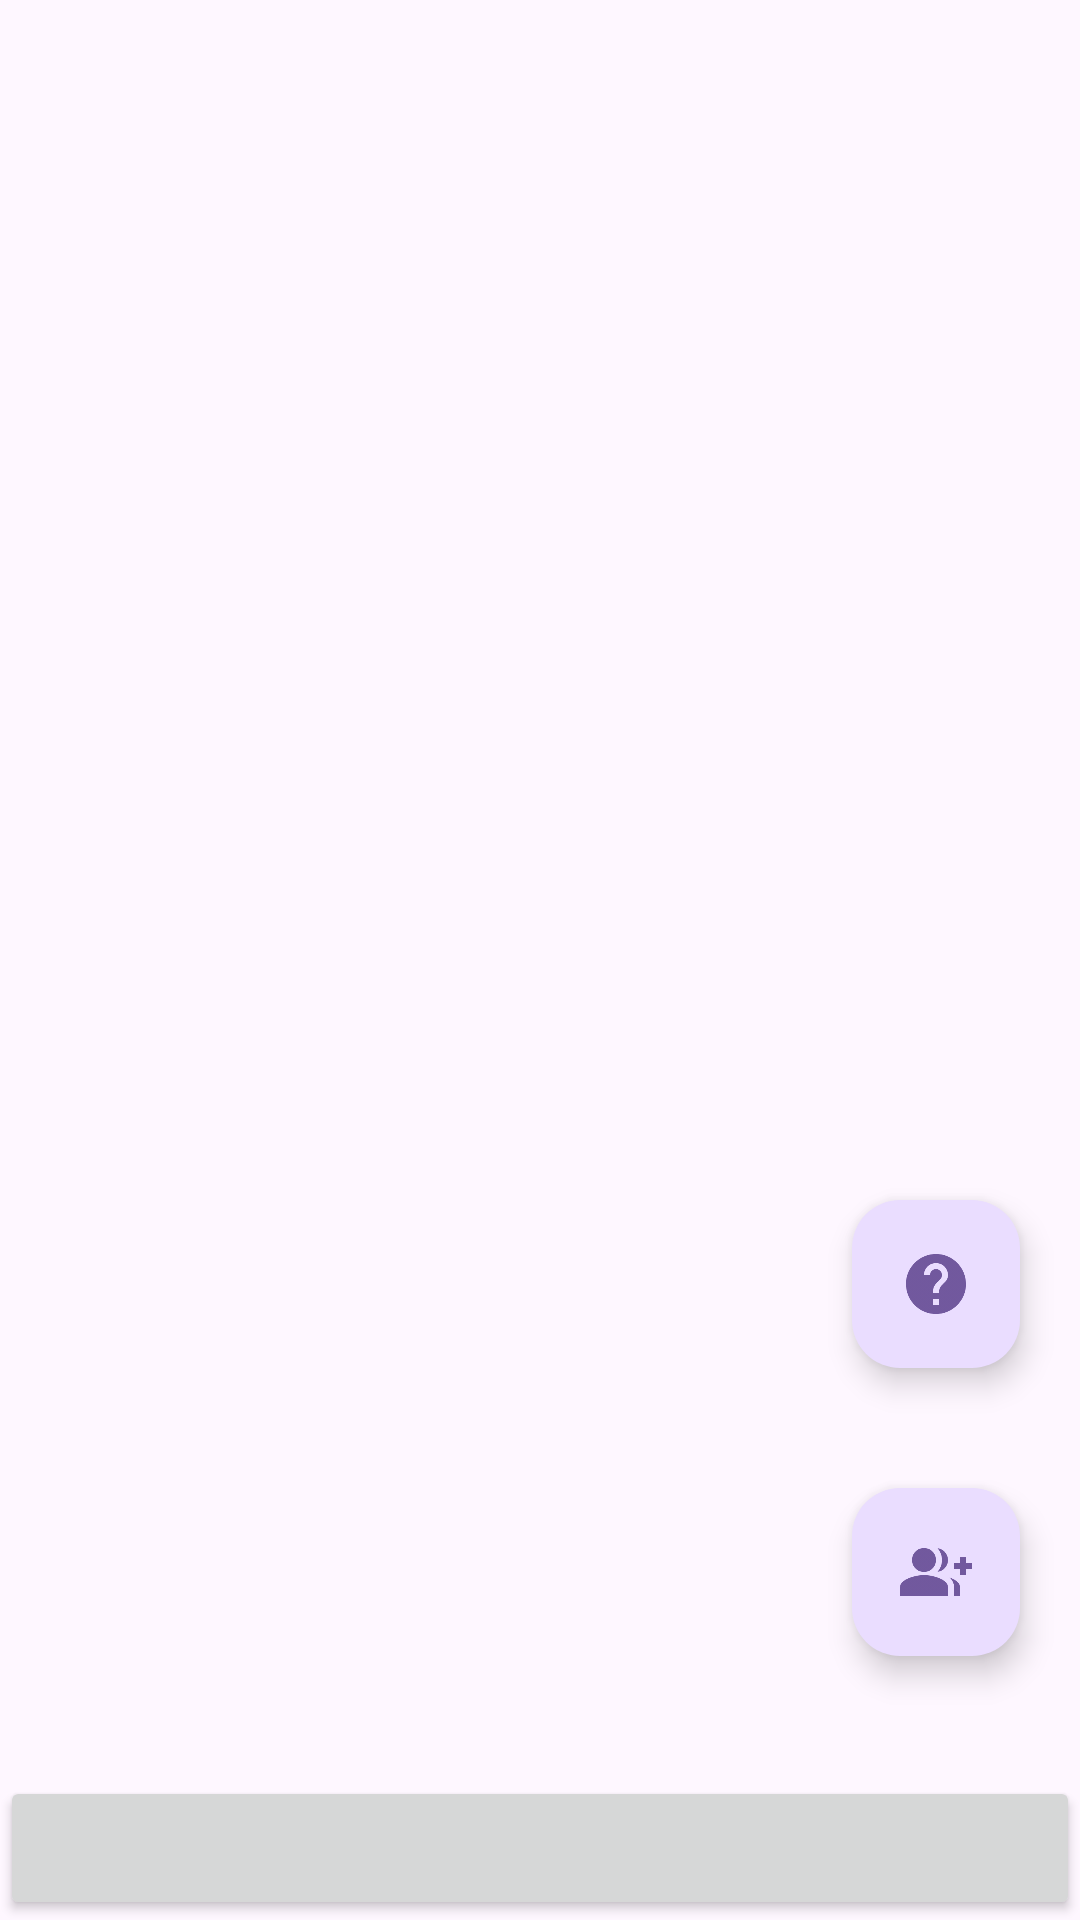

Point at icon controls on the screen. Image size 1080*1920, points as (x=x, y=y).
add team: (x=936, y=1572)
help: (x=936, y=1284)
